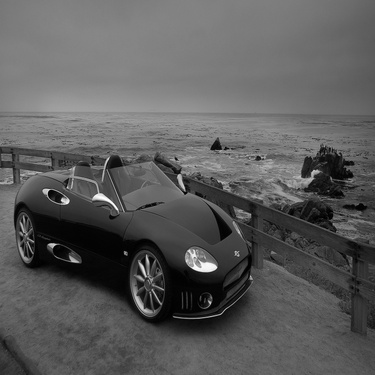car: (1, 133, 274, 321)
